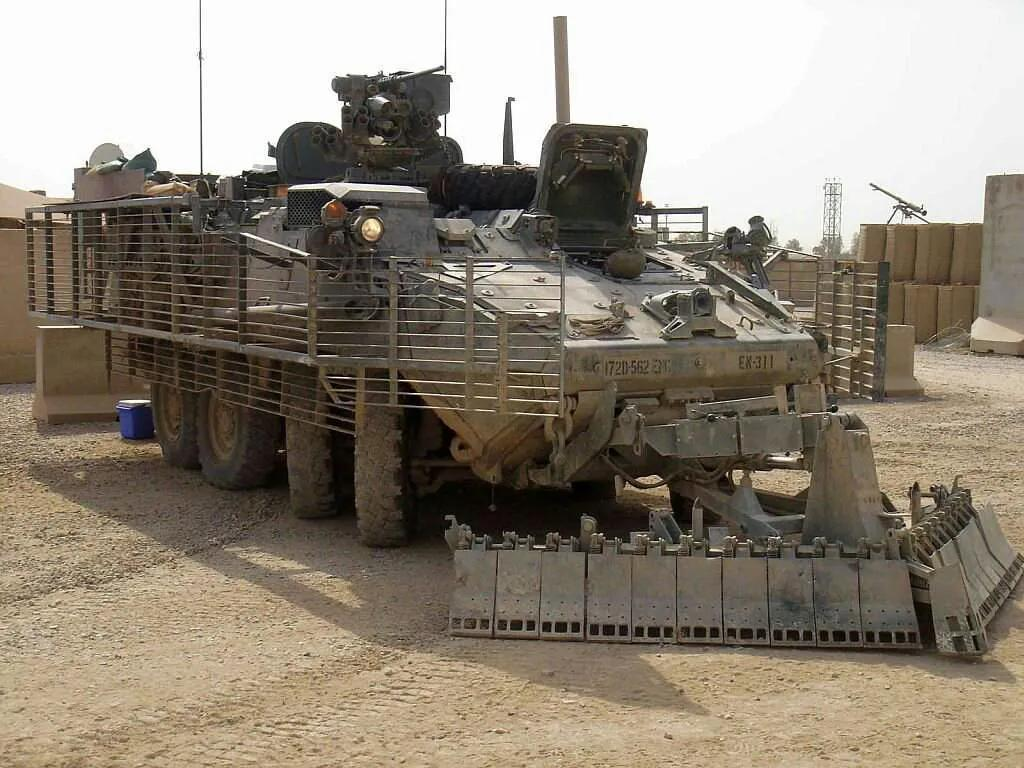MIL_IFV: (27, 66, 838, 549)
